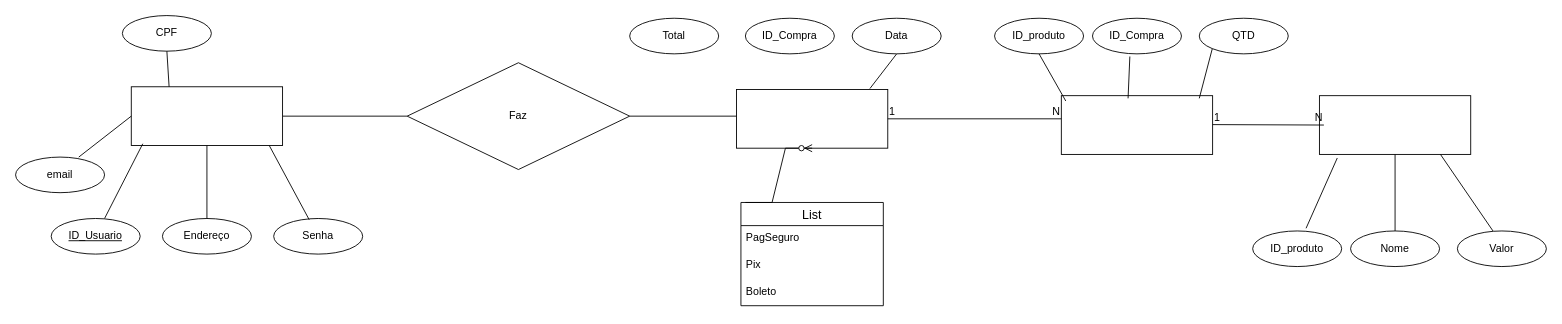
This 1562x324 diagram has some shape labels left out. The centre of each missing label's shape, as x and y in pixels:
"Compra" goes at [812,118].
"Items" goes at [1136,124].
"Produto" goes at [1395,124].
"Usuario" goes at [206,116].
